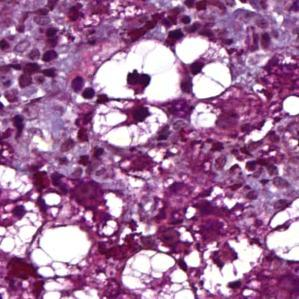ballooning: (89, 38, 186, 106), (174, 33, 235, 104), (0, 165, 44, 263), (29, 220, 96, 280), (91, 99, 170, 149), (120, 248, 195, 299), (264, 198, 299, 263)
